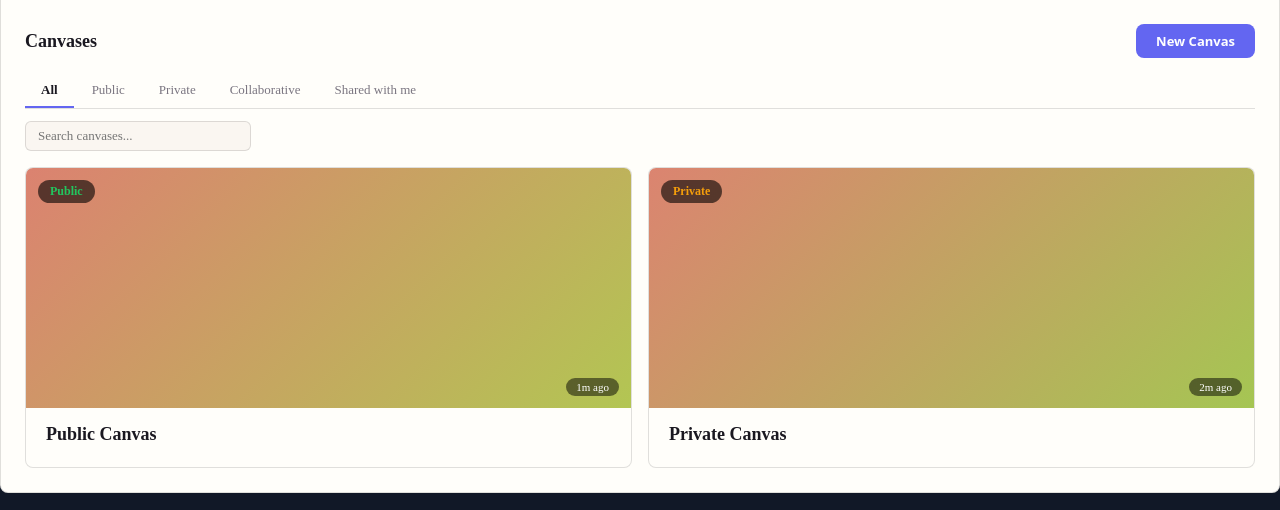
Scenario: CanvasGallerySection › filter tabs › Public filter shows only public canvases
Click the button with test id "filter-public": (108, 91) [76,74,141,108]
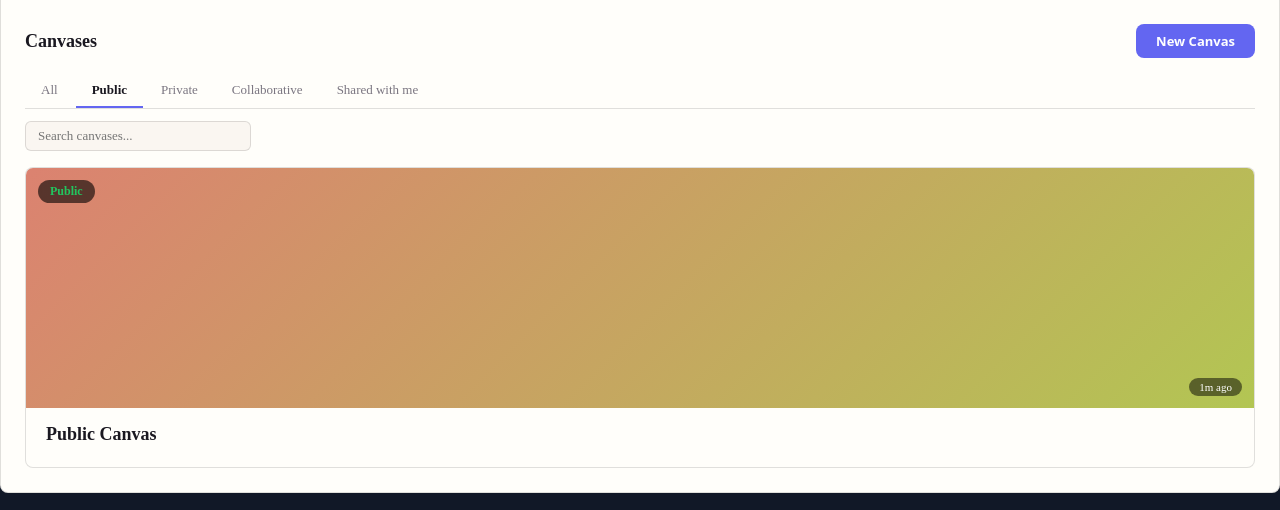
Expected: the text "Public Canvas" is shown, [46,424,156,444]
Result: the link "Private Canvas" is gone
